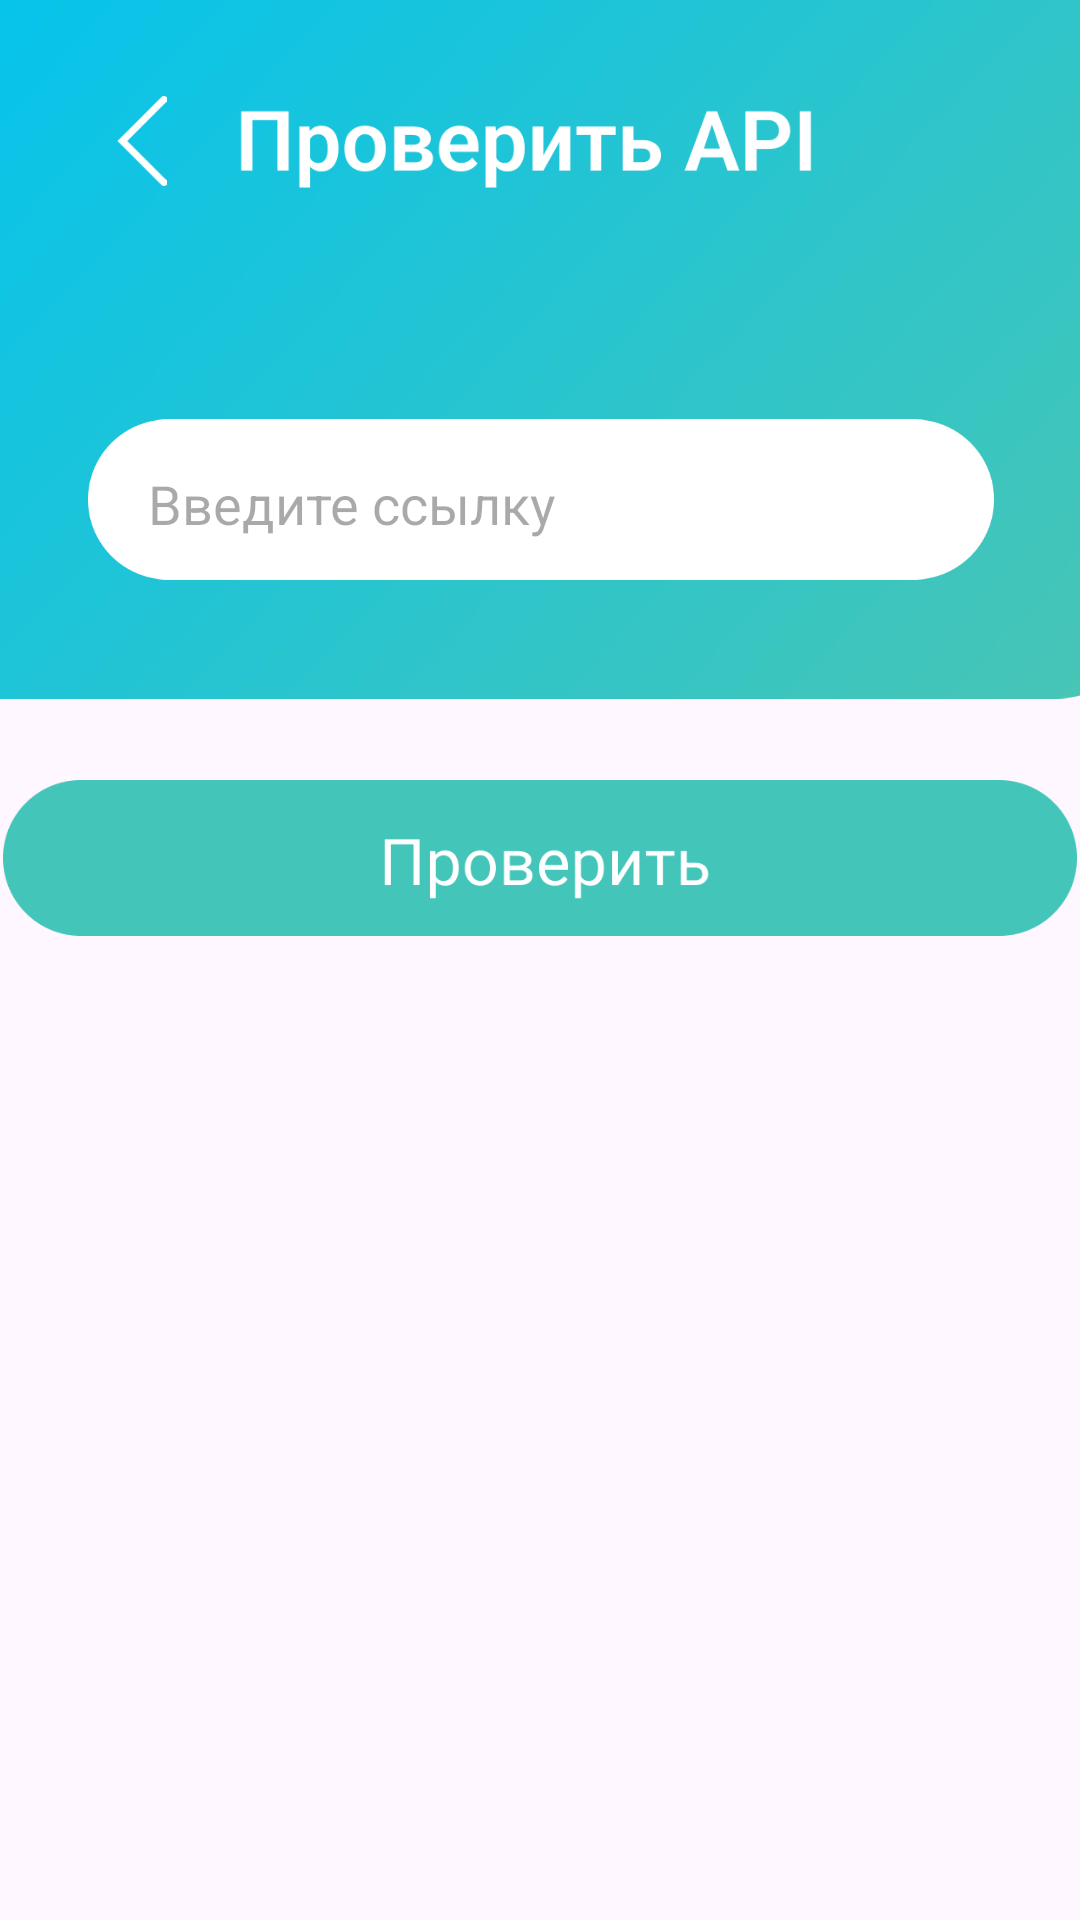

Screen size 1080*1920. Icon name, then its center in pixels as (x=x, y=y):
back: (x=142, y=141)
